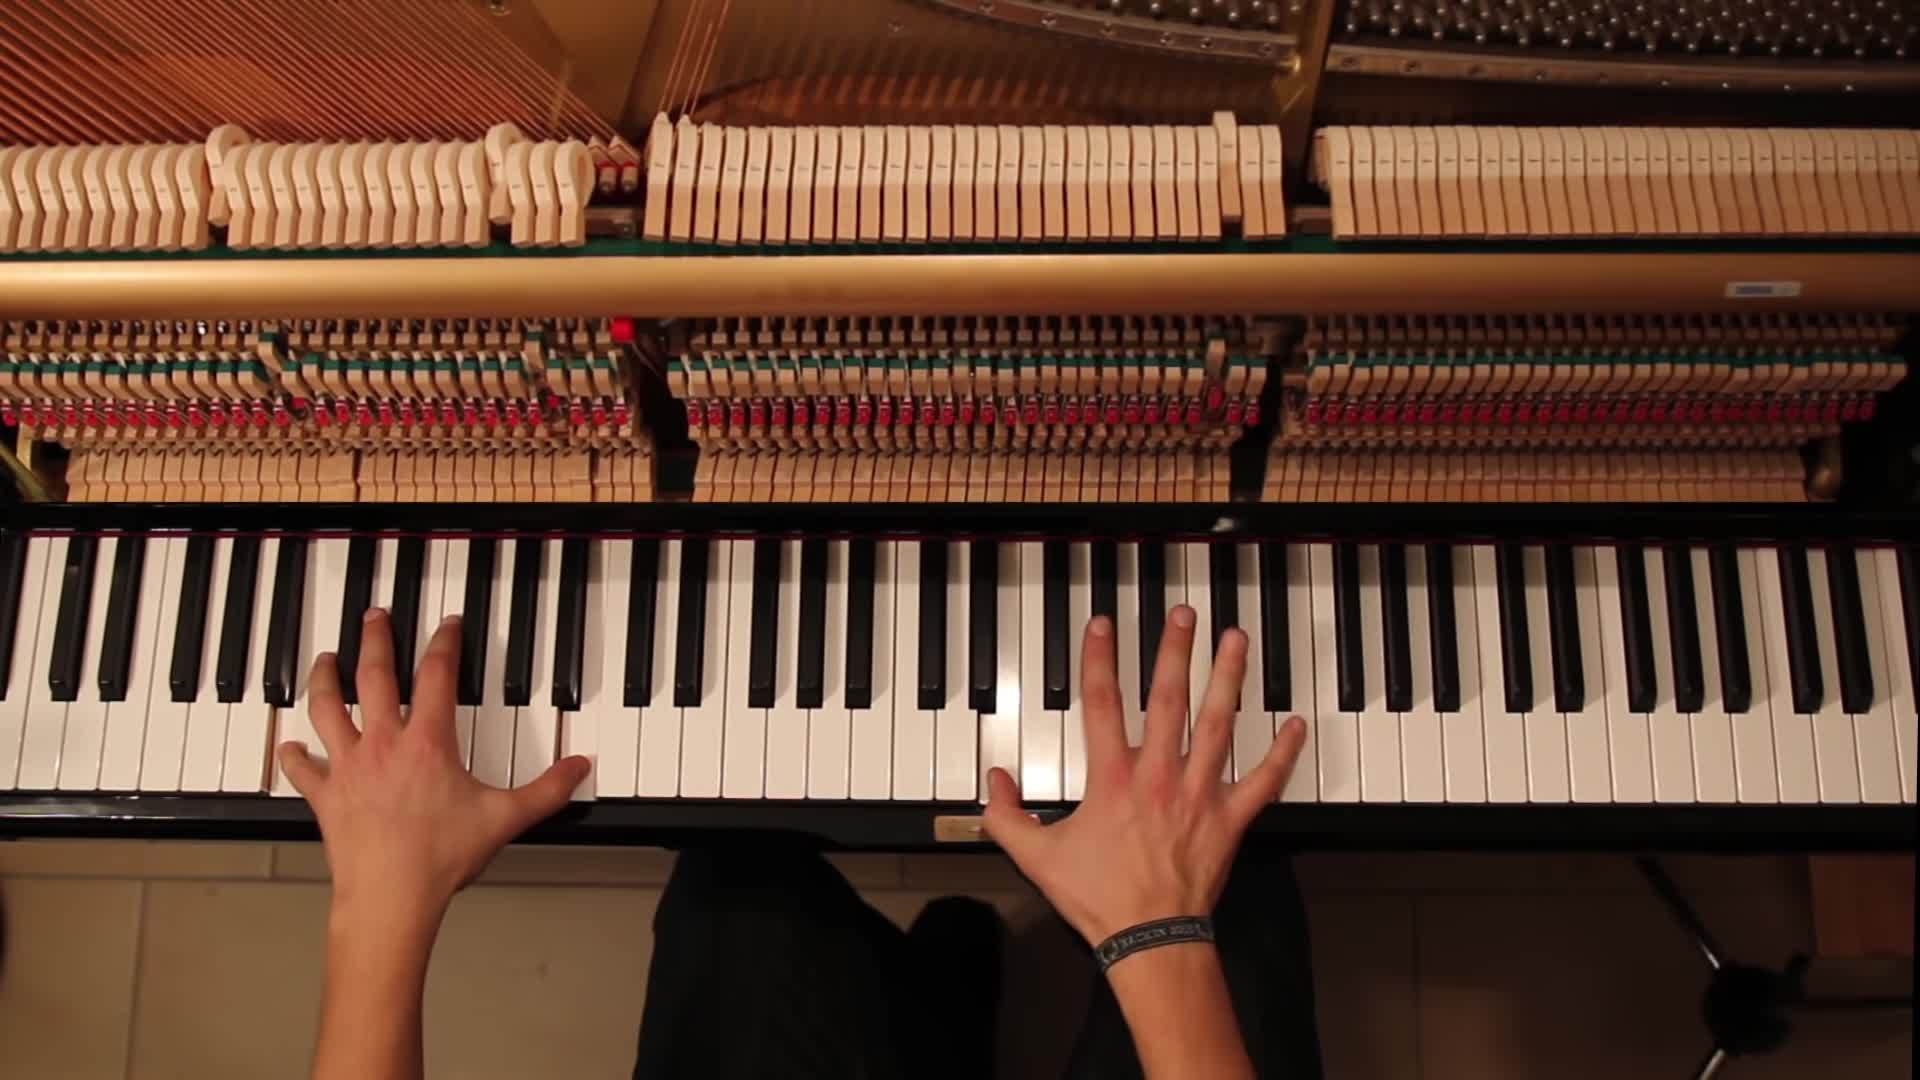left: (273, 607, 589, 905)
right: (982, 605, 1308, 928)
